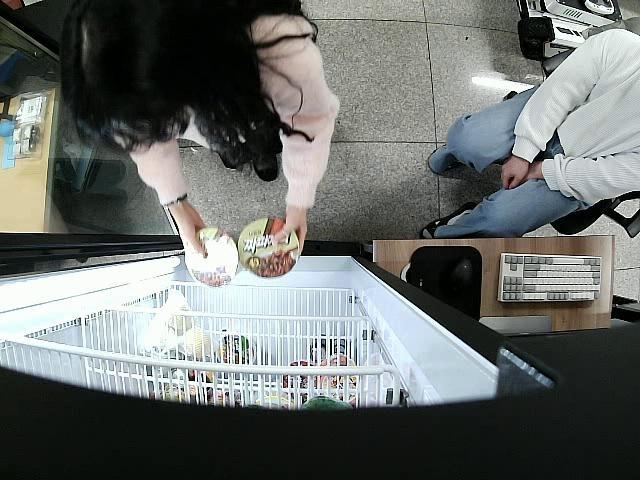03_chapagetti_L: (238, 216, 300, 279), (181, 226, 238, 288)
